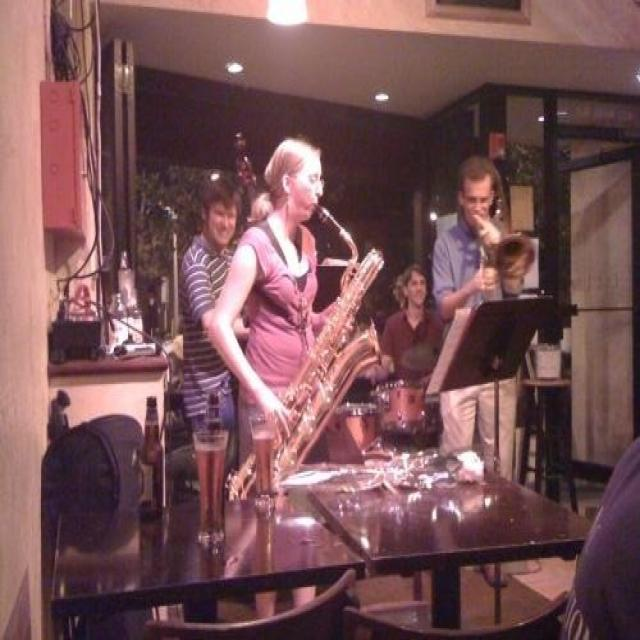drums: (329, 376, 452, 454)
saxophone: (232, 198, 384, 503)
